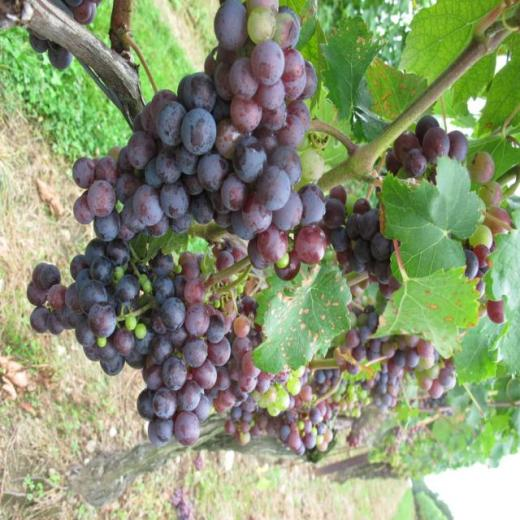Orange: (71, 0, 326, 281), (27, 239, 230, 446), (318, 116, 515, 324), (224, 308, 456, 457), (205, 296, 305, 416), (26, 0, 102, 72)
